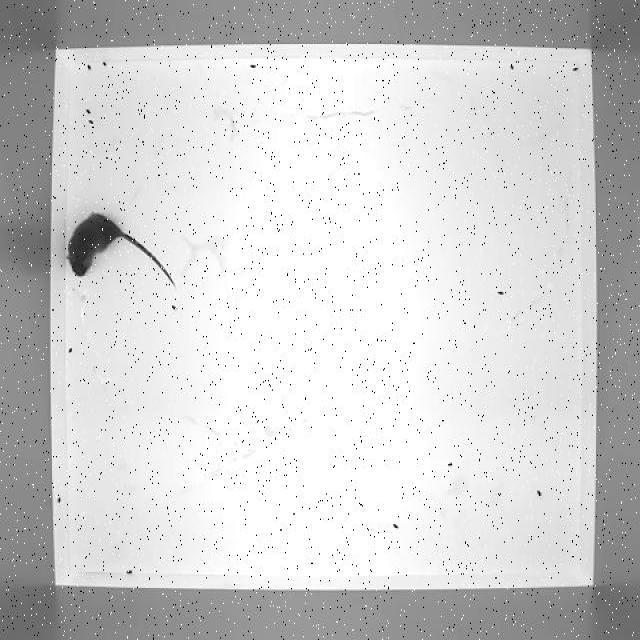rat: (68, 209, 176, 287)
